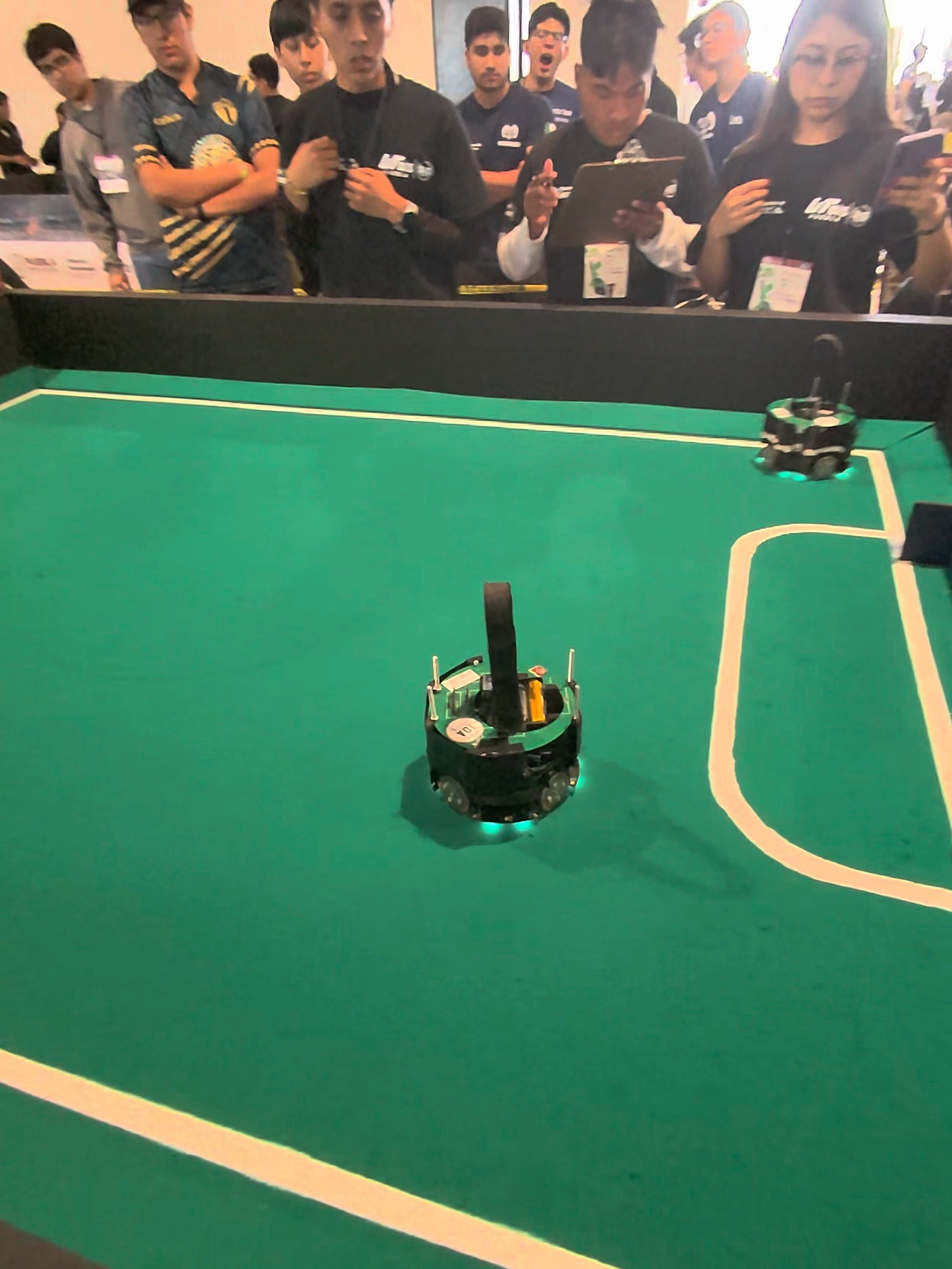Robot: (406, 565, 610, 863), (755, 329, 867, 492)
